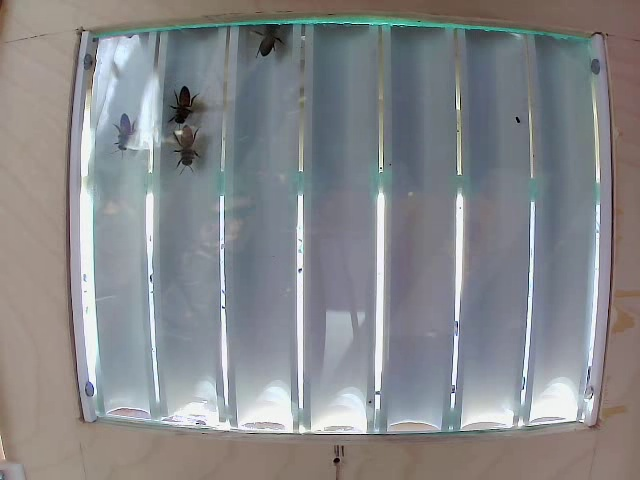bee: (156, 86, 196, 134), (172, 137, 207, 179), (107, 118, 146, 155)
